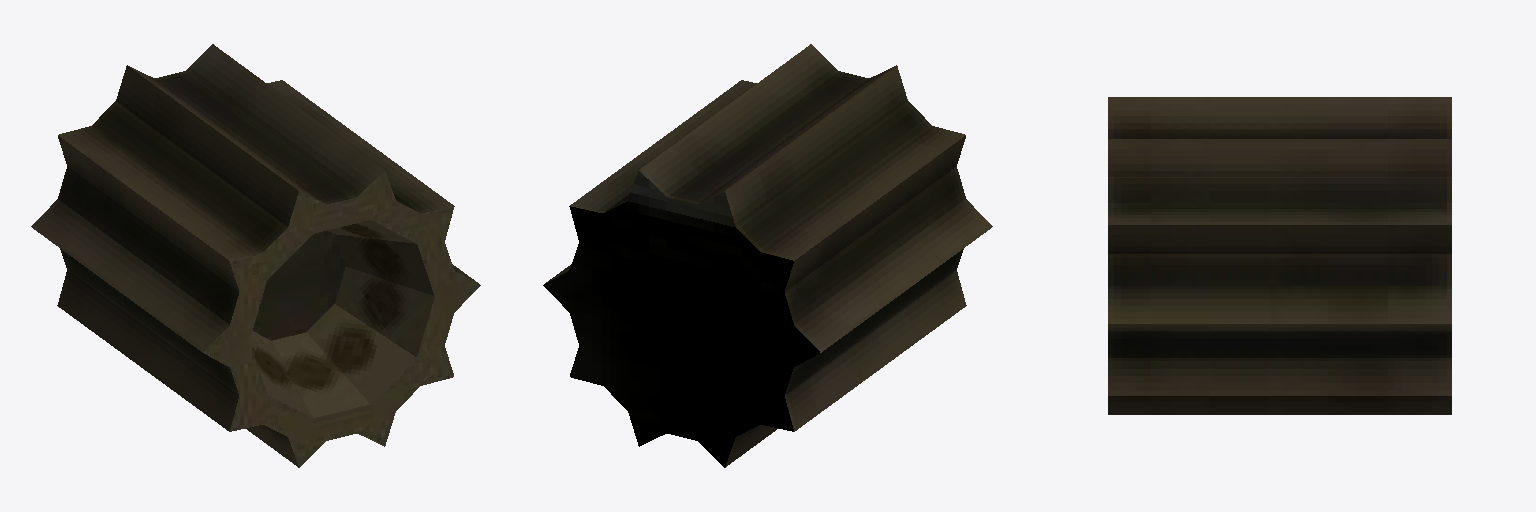
The picture shows the model from 3 angles: view 1: azimuth 30°, elevation 25°; view 2: azimuth 150°, elevation 25°; view 3: azimuth 270°, elevation 25°; orthographic projection.
Visible parts, largest first — view 1: Cylinder01.006; view 2: Cylinder01.006; view 3: Cylinder01.006.
Part boxes in pixels (left/top/right/bottom): Cylinder01.006: left=31, top=44, right=480, bottom=467; Cylinder01.006: left=543, top=44, right=992, bottom=467; Cylinder01.006: left=1108, top=97, right=1451, bottom=414.
Bounding box in the file's own units: 1.45 × 1.37 × 1.55.
1 materials, 1 textured.